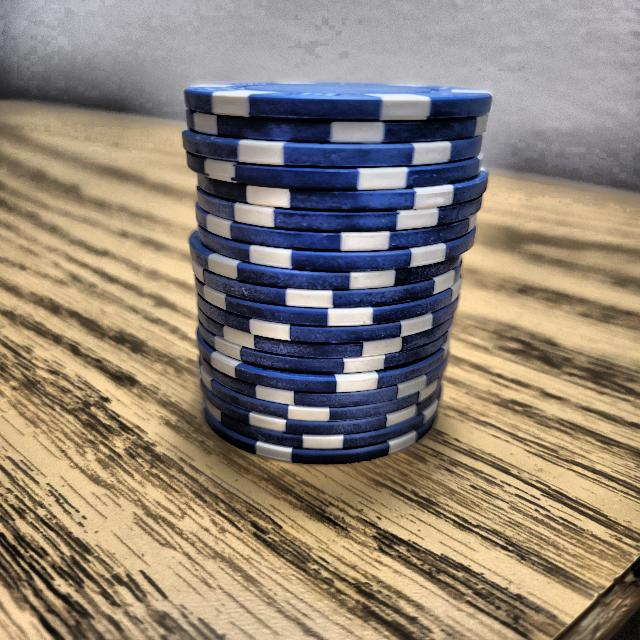Chip: (171, 55, 500, 488)
